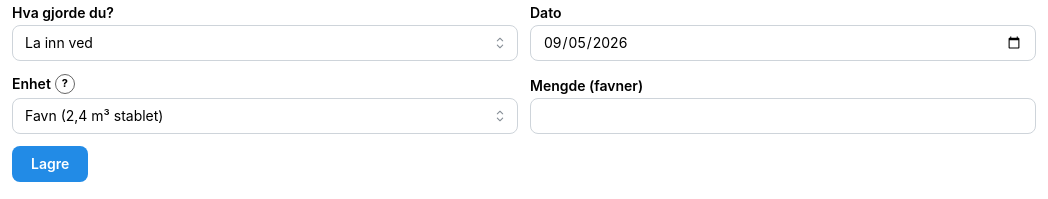
it: VolumeEntryForm › clears the amount after saving, so the next entry starts empty
Type "2" into the number field labelled "Mengde (favner)".
click(783, 116); type("2")  # box 530,98 -> 1036,134
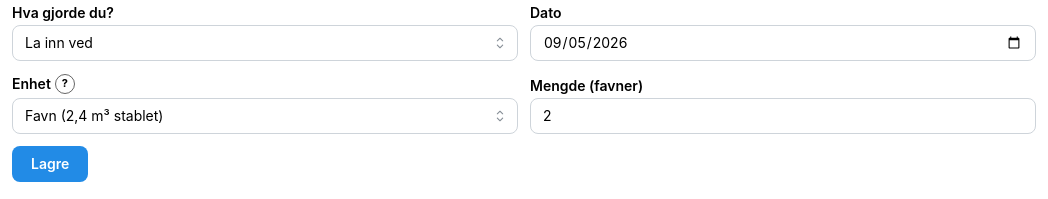
Click the button "Lagre".
click(50, 164)  # box 12,146 -> 88,182
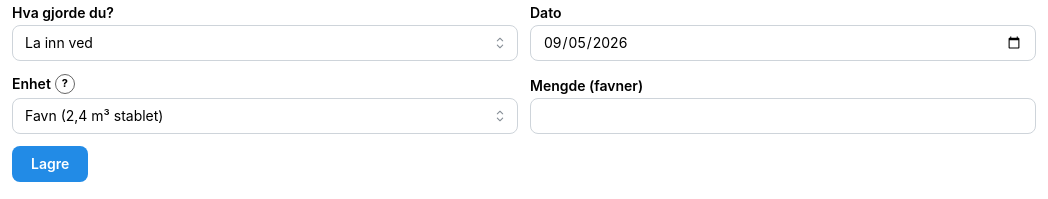
Expected: the number field labelled "Mengde (favner)" is not empty, 530,98 -> 1036,134
